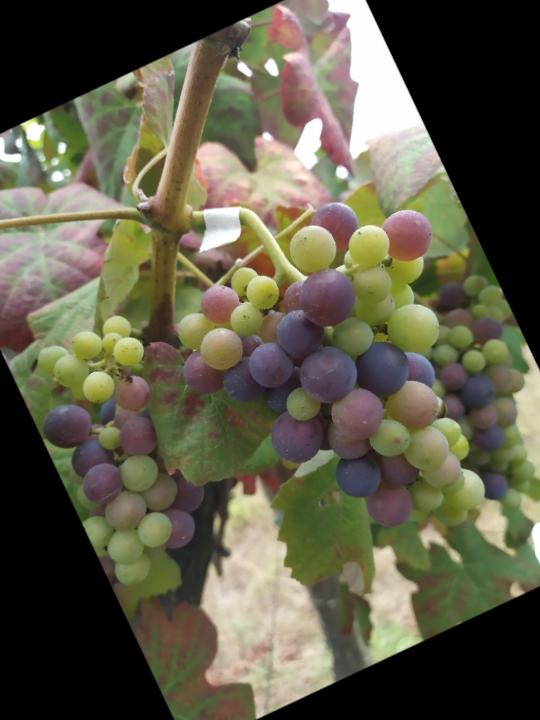grape: (138, 162, 540, 608), (6, 306, 236, 596)
